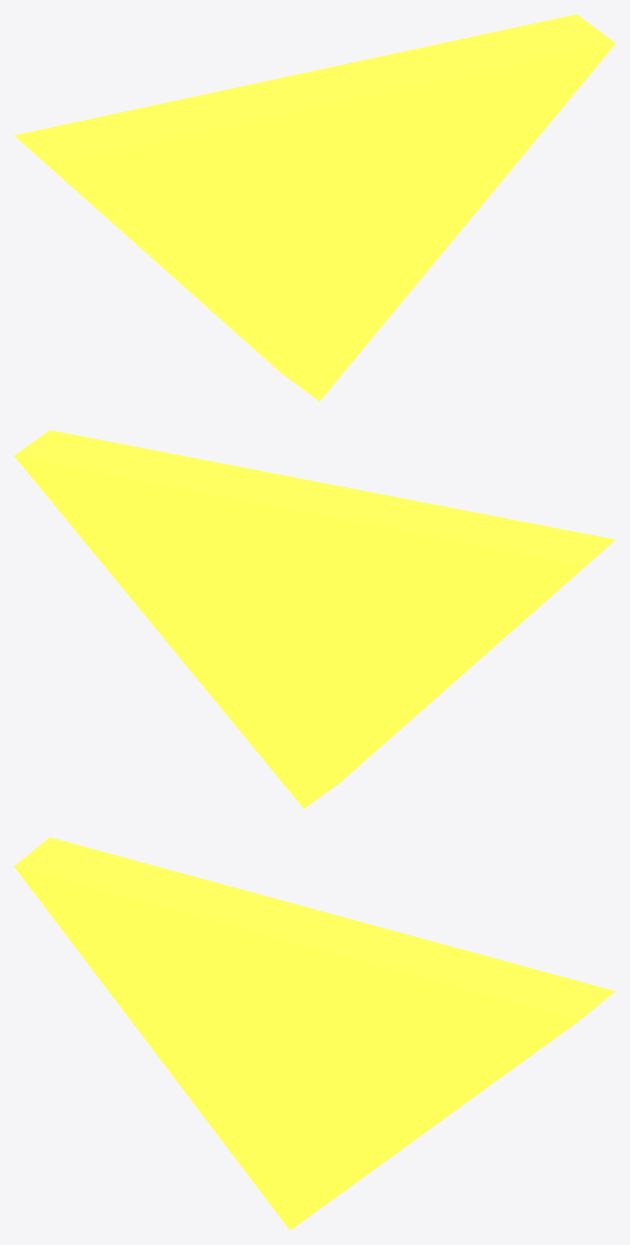
File: arrow_01_selang2.fbx
The picture shows the model from 3 angles, top to bottom: view 1: azimuth 30°, elevation 25°; view 2: azimuth 150°, elevation 25°; view 3: azimuth 330°, elevation 25°; orthographic projection.
Parts seen in each view (by area): view 1: Cube.022; view 2: Cube.022; view 3: Cube.022.
Part boxes in pixels (<box>): Cube.022: <box>14,14,615,401</box>; Cube.022: <box>14,430,615,808</box>; Cube.022: <box>14,837,615,1230</box>.
Size of the model in its own units: 5.84 by 3.04 by 0.7991.
